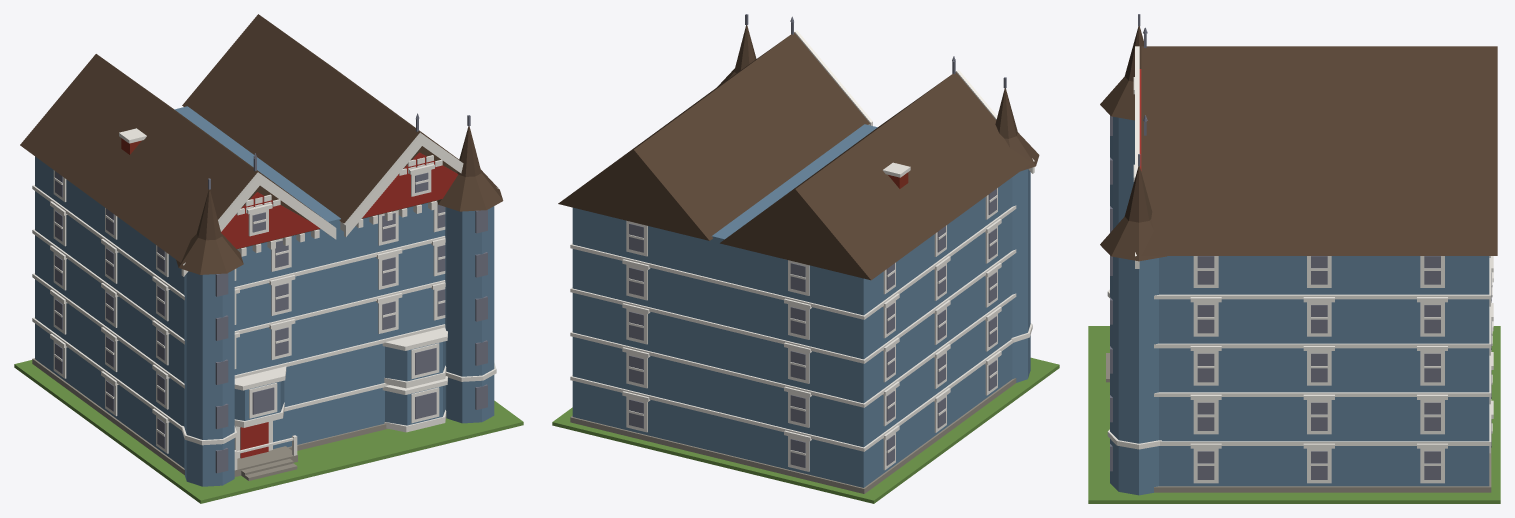
File: house-2x2-5f-victorian-a.glb
The picture shows the model from 3 angles, left to right: view 1: azimuth 30°, elevation 25°; view 2: azimuth 150°, elevation 25°; view 3: azimuth 270°, elevation 25°; orthographic projection. The views are drawn at different scales.
Parts seen in each view (by area): view 1: house-2x2-5f-victorian-a; view 2: house-2x2-5f-victorian-a; view 3: house-2x2-5f-victorian-a.
Boxes of the visible parts, x1,y1,x2,y2 form: house-2x2-5f-victorian-a: (14,14,523,503); house-2x2-5f-victorian-a: (552,14,1059,503); house-2x2-5f-victorian-a: (1088,14,1500,503).
Bounding box in the file's own units: 1.99 × 1.84 × 1.99.
Materials: 1 (1 with a texture image).
